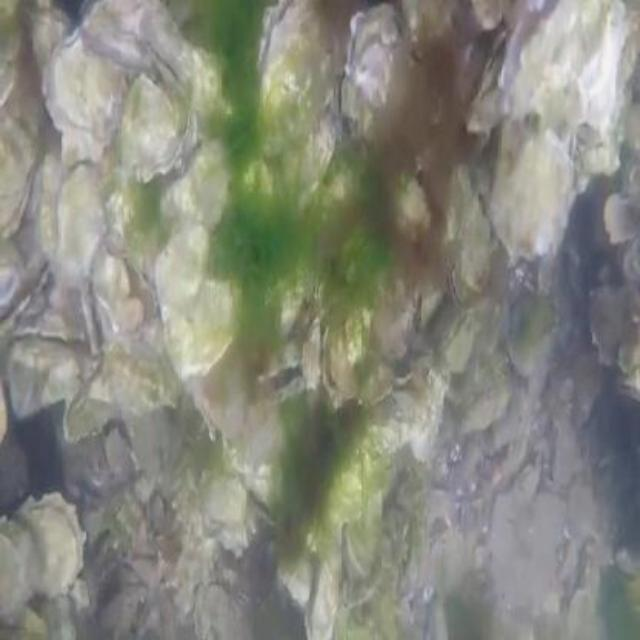Oyster-Closed: (488, 121, 576, 263), (80, 0, 193, 101), (44, 26, 126, 148), (113, 78, 191, 182), (337, 9, 399, 139), (166, 280, 241, 382), (0, 70, 40, 235), (161, 139, 227, 235), (156, 224, 208, 327), (306, 535, 341, 640), (201, 479, 244, 531), (416, 286, 442, 329)
Oyster-Open: (497, 0, 625, 134), (257, 0, 341, 156), (13, 495, 88, 603), (450, 195, 493, 307), (321, 312, 359, 404), (259, 337, 305, 404)
